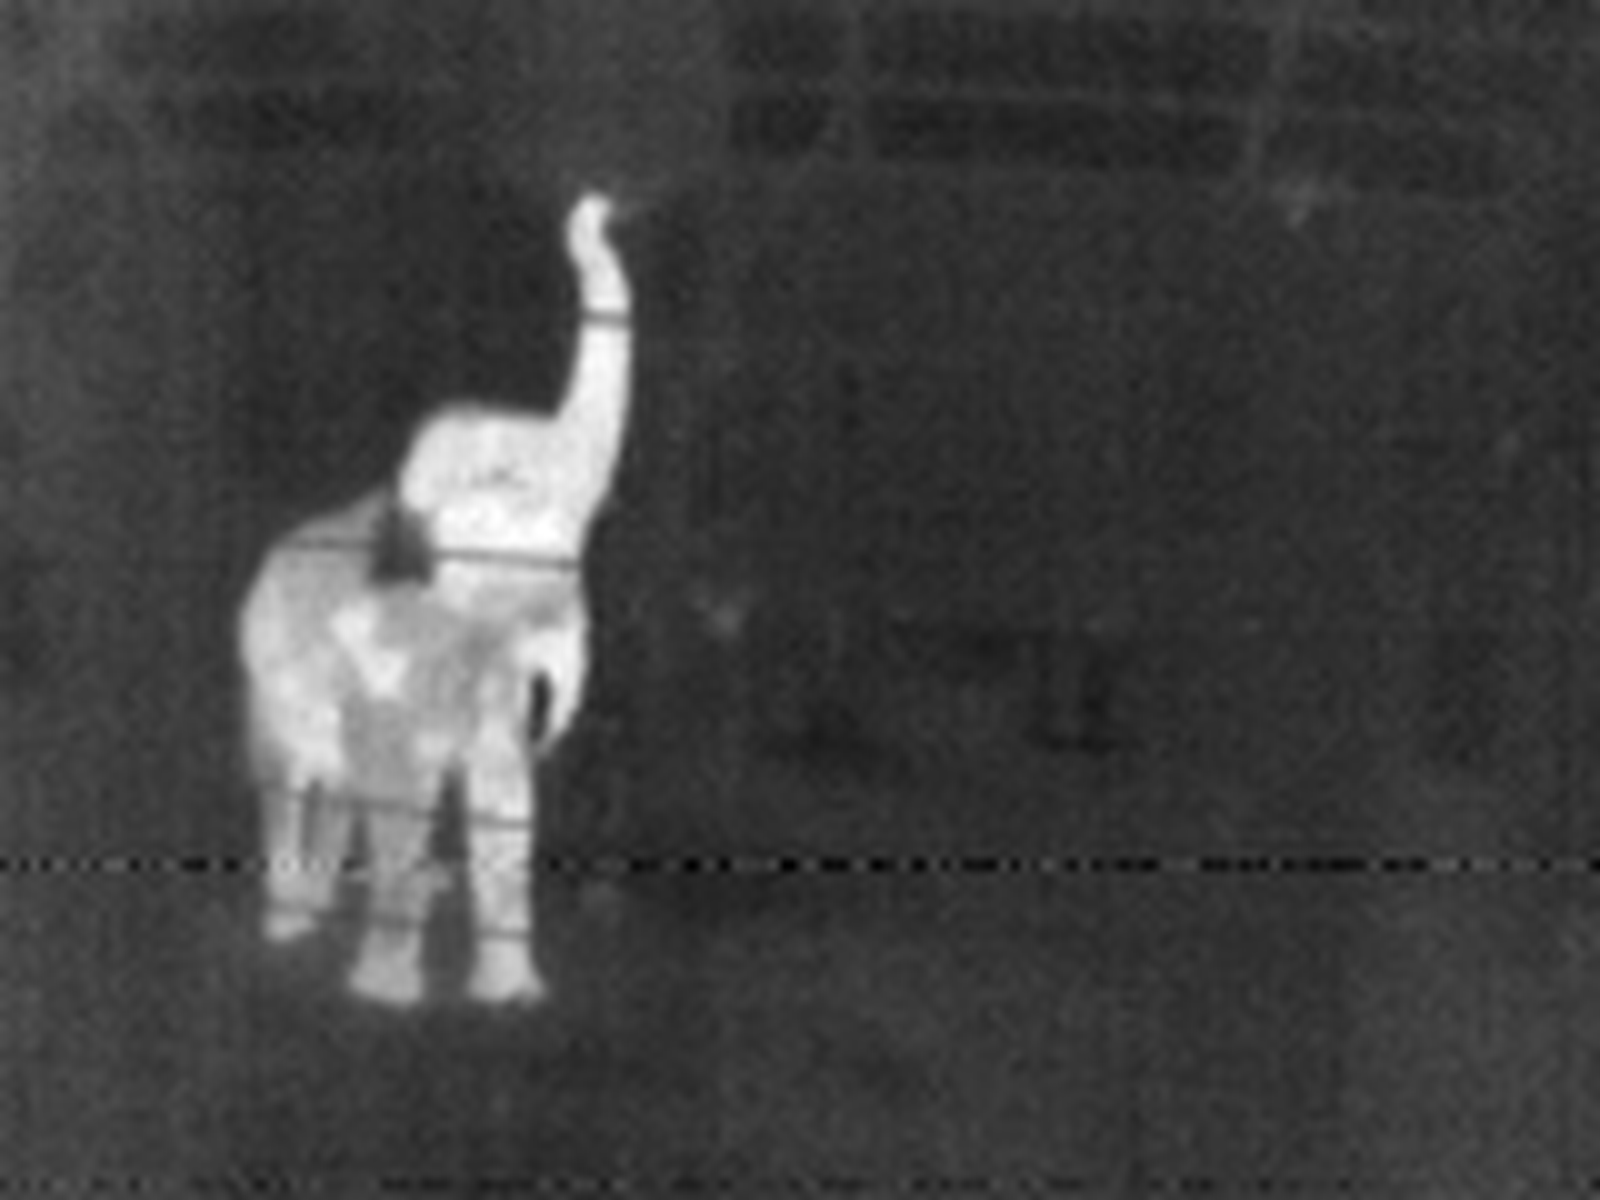elephant: (224, 173, 606, 1024)
